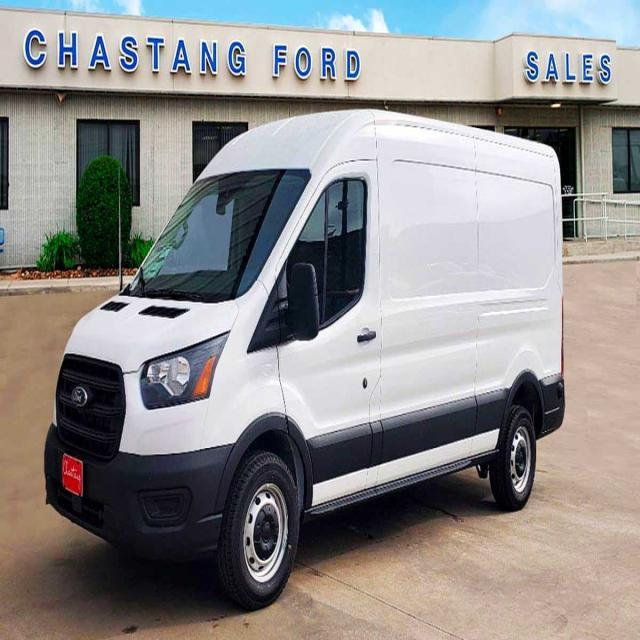truck: (43, 105, 566, 610)
